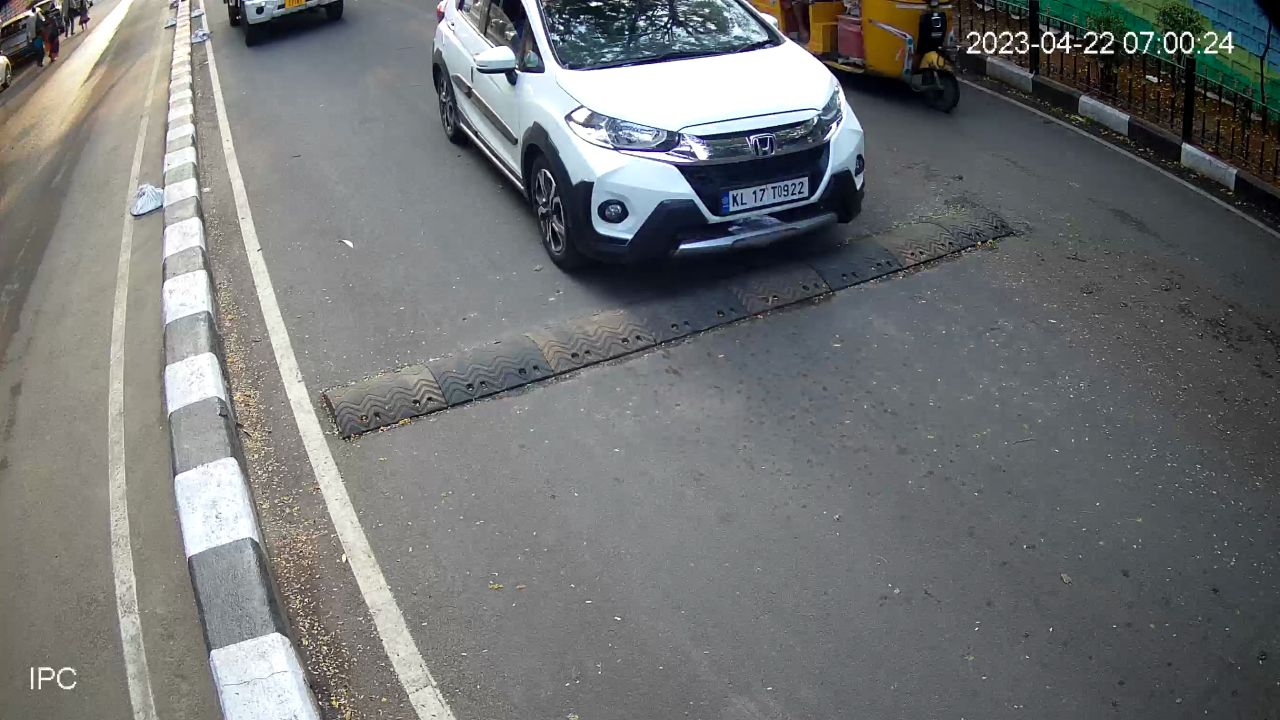license_plate: (723, 169, 813, 222)
